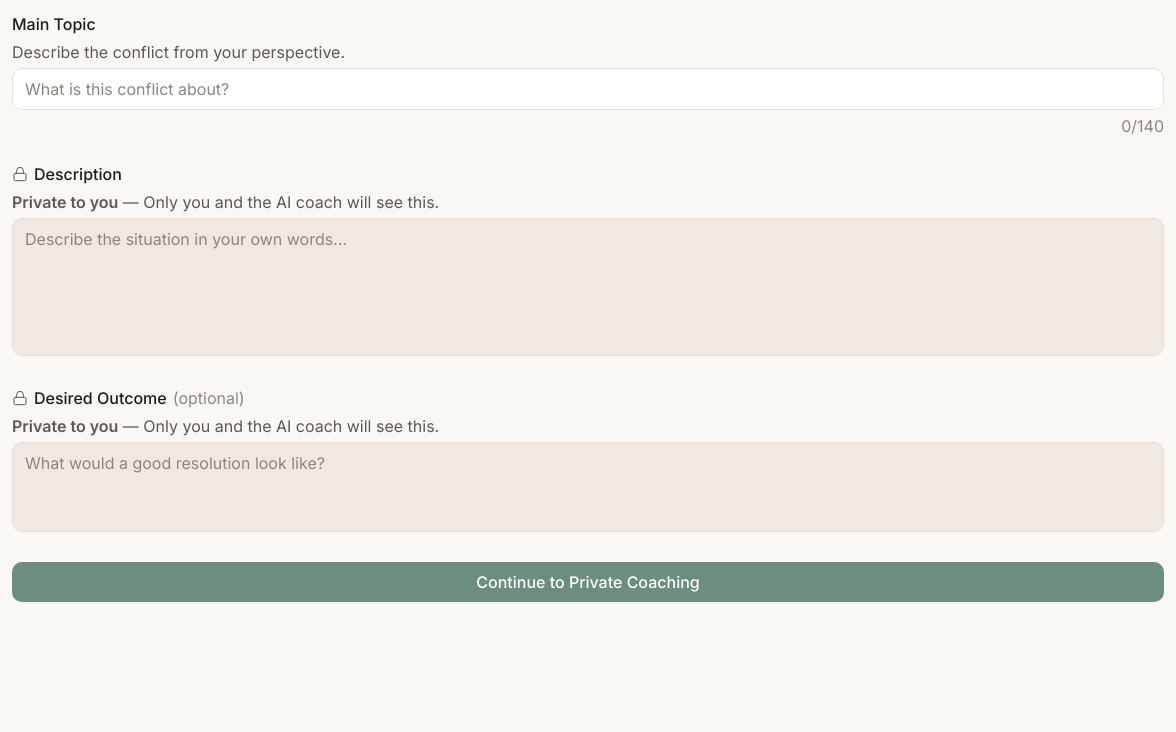
Scenario: AC3: Form UI matches case creation steps 2–4 › updates the character counter as the user types
This screenshot has width=1176, height=732.
Type "Hello" into the field labelled "Main Topic" at (588, 89), box left=12, top=68, right=1164, bottom=110
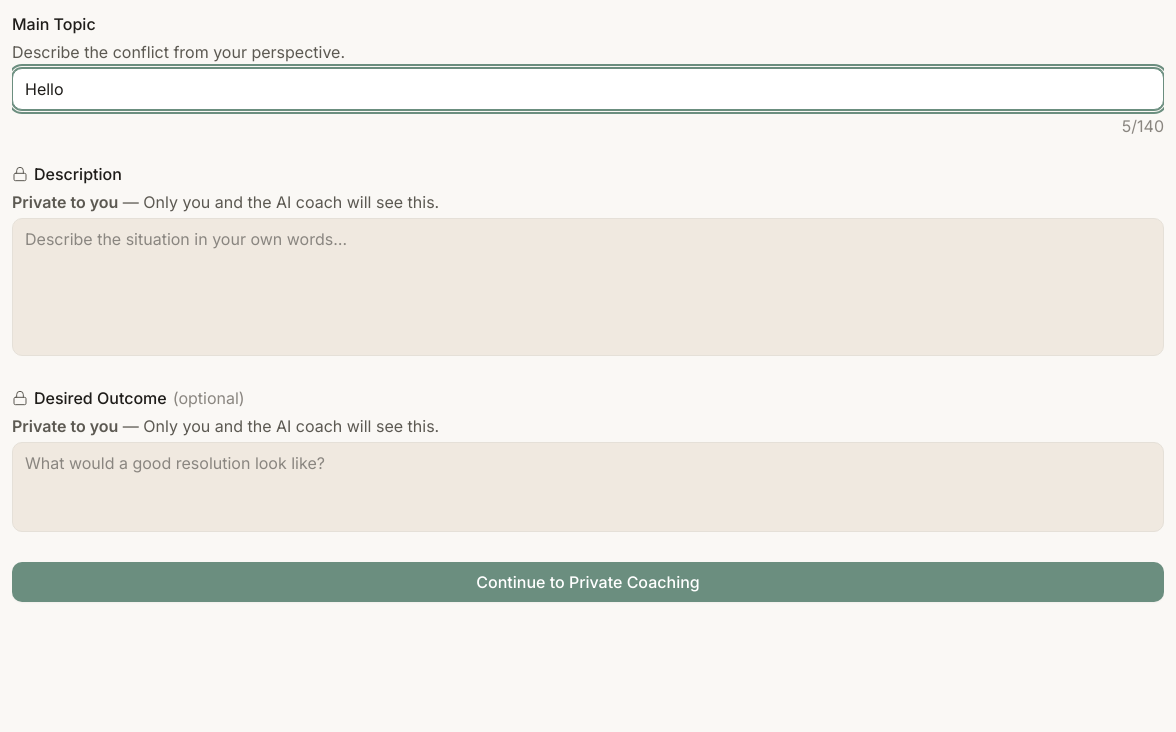
Check: the text "5/140" is shown, box left=1122, top=114, right=1164, bottom=138
